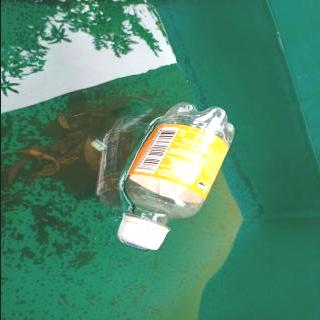bottle: (114, 100, 237, 252)
